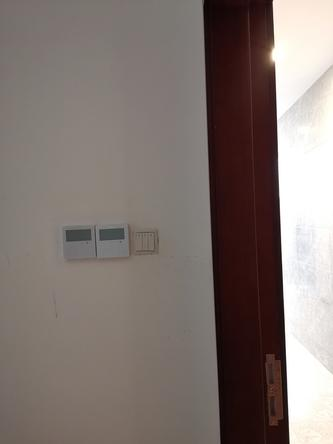switch: (141, 230, 150, 253), (147, 229, 156, 249), (135, 230, 143, 252)
